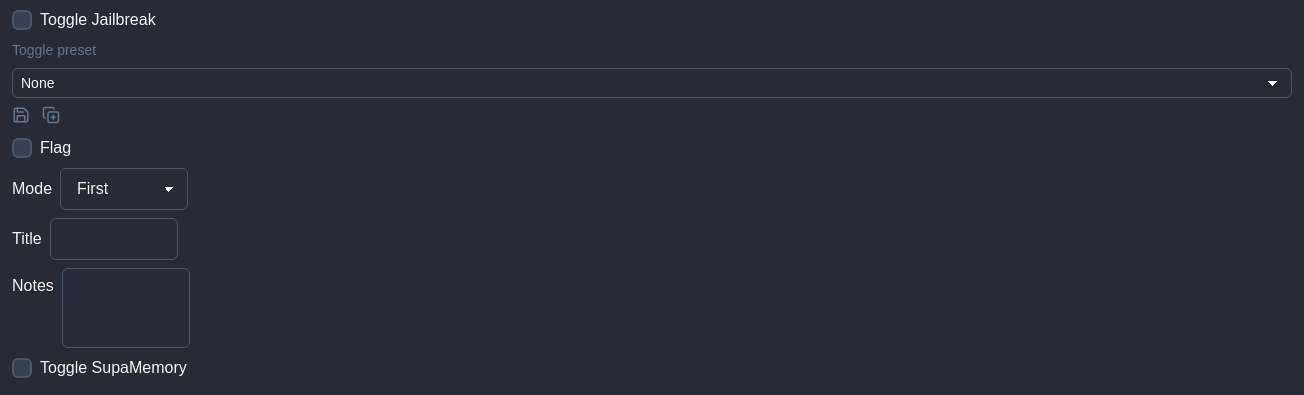
Test case: toggle preset panel › applies equal resolved defaults without confirmation even when the preset has missing values and stale keys
The image size is (1304, 395).
Step 1. Select "Preset p" in the dropdown named "Toggle preset" → {"x": 652, "y": 83}, box top-left (12, 68), bottom-right (1292, 98)
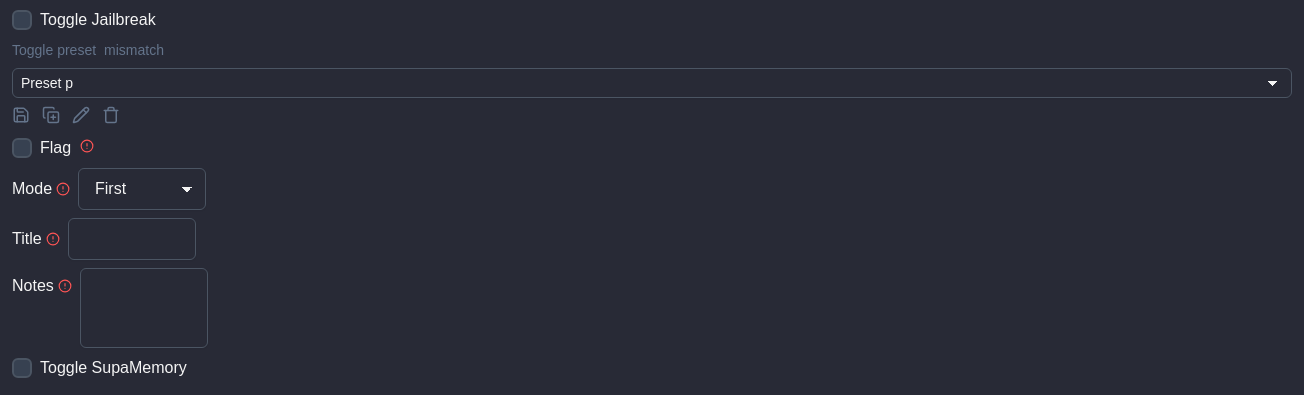
Now the text "mismatch" is shown, box top-left (104, 40), bottom-right (164, 60)
